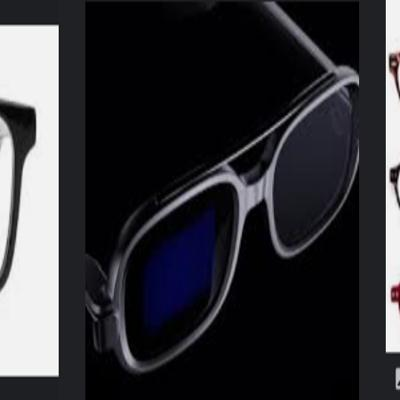glasses: (89, 62, 359, 372)
